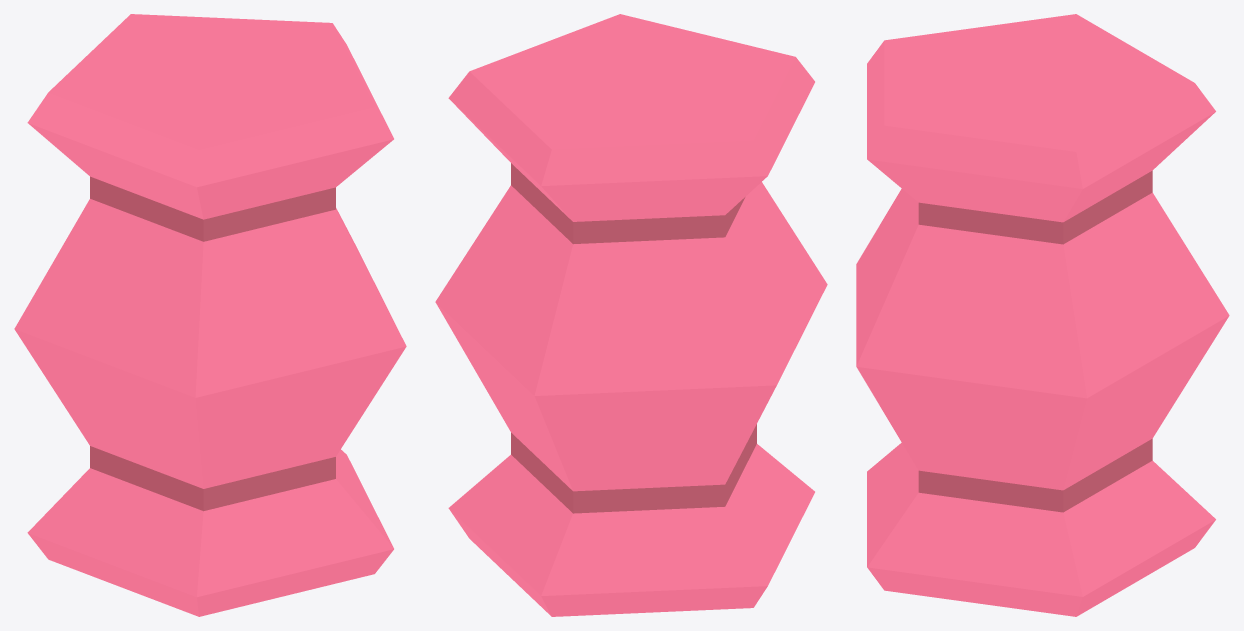
File: Pot.glb
3 views of the same model, side by side, from view 1: azimuth 30°, elevation 25°; view 2: azimuth 150°, elevation 25°; view 3: azimuth 270°, elevation 25° (orthographic).
Visible parts, largest first — view 1: Ancient_pot; view 2: Ancient_pot; view 3: Ancient_pot.
Part boxes in pixels (<box>): Ancient_pot: <box>14,14,406,616</box>; Ancient_pot: <box>435,14,827,616</box>; Ancient_pot: <box>856,14,1229,616</box>.
Size of the model in its own units: 2.49 by 3.26 by 2.37.
